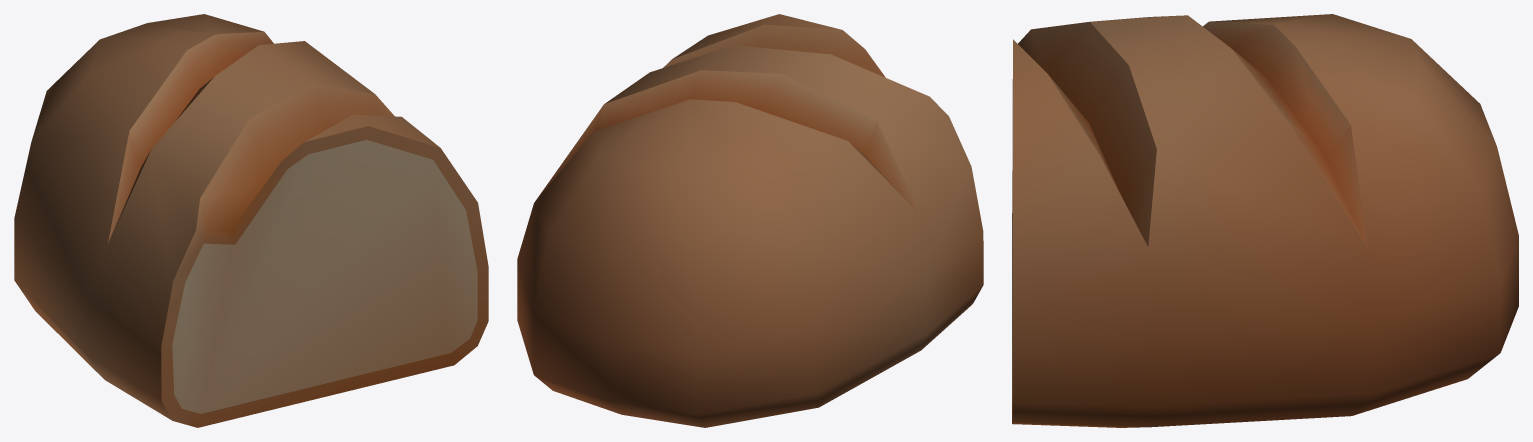
Rendered from LoafHalf.glb.
The picture shows the model from 3 angles, left to right: view 1: azimuth 30°, elevation 25°; view 2: azimuth 150°, elevation 25°; view 3: azimuth 270°, elevation 25°; orthographic projection. The views are drawn at different scales.
Parts seen in each view (by area): view 1: geometry_0; view 2: geometry_0; view 3: geometry_0.
Boxes of the visible parts, x1,y1,x2,y2 form: geometry_0: (14,14,488,427); geometry_0: (517,14,983,427); geometry_0: (1012,14,1518,427).
Bounding box in the file's own units: 0.0955 × 0.0737 × 0.1053.
1 material, 1 textured.
